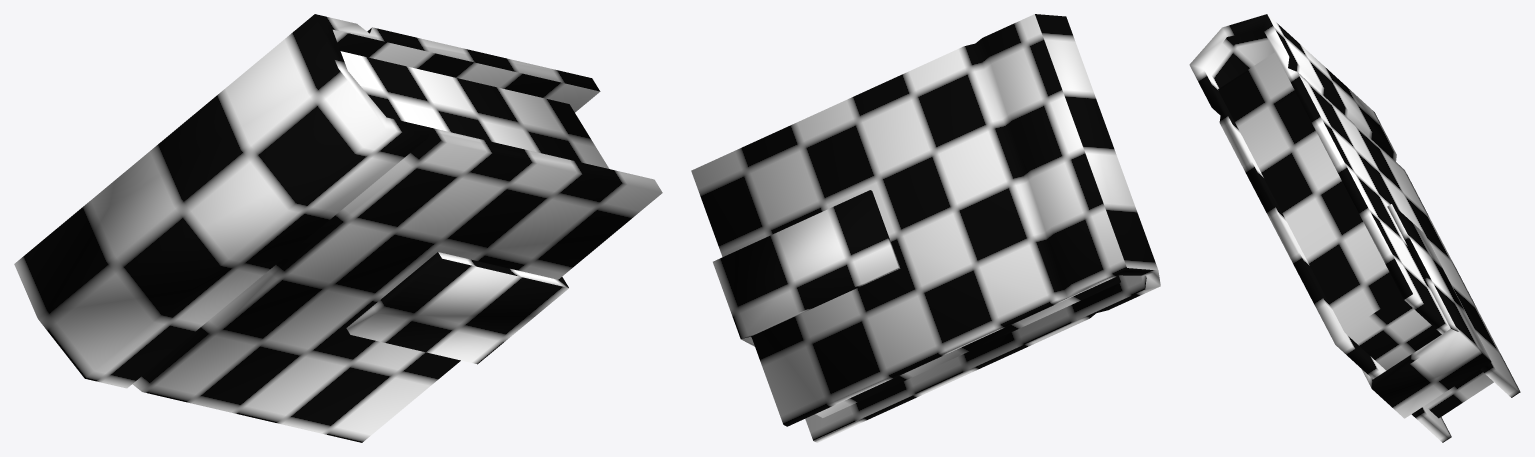
Rendered from initqu17.dae.
3 renders of one model, left to right at view 1: azimuth 30°, elevation 25°; view 2: azimuth 150°, elevation 25°; view 3: azimuth 270°, elevation 25°, orthographic. The views are drawn at different scales.
Visible parts, largest first — view 1: item; view 2: item; view 3: item.
Boxes of the visible parts, x1,y1,x2,y2 form: item: (14,14,662,442); item: (691,14,1160,442); item: (1189,14,1520,442).
Bounding box in the file's own units: 1.63 × 1.14 × 1.41.
1 material, 1 textured.
